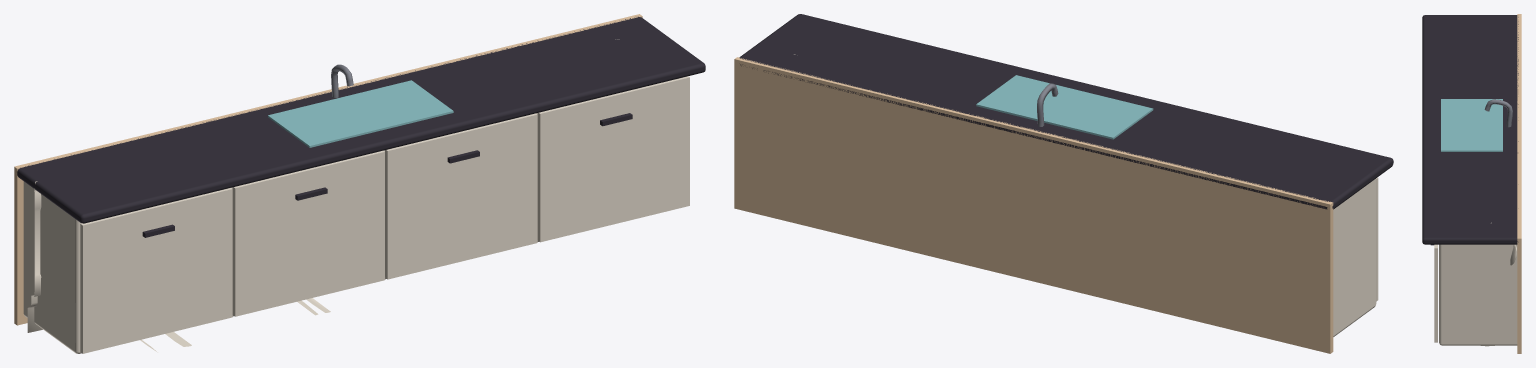
File: show_kitchen_counter.glb
3 renders of one model, left to right at view 1: azimuth 30°, elevation 25°; view 2: azimuth 150°, elevation 25°; view 3: azimuth 270°, elevation 25°, orthographic. The views are drawn at different scales.
Size of the model in its own units: 4.8 by 1.42 by 0.9.
